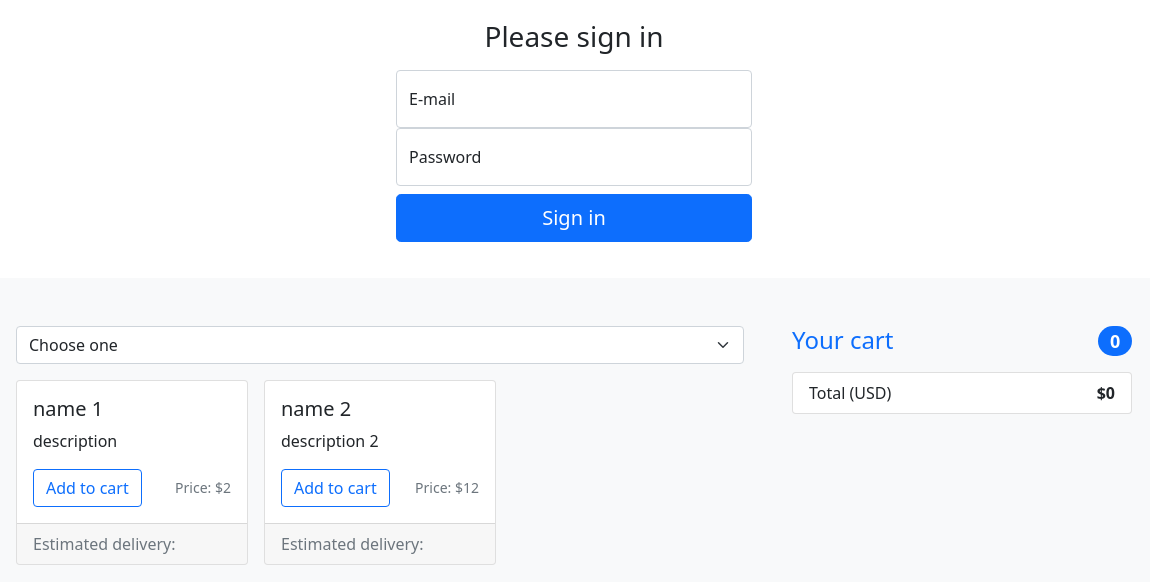
Test: Home component › One click buy with error
Expected: the text with test id "badge" reads "0", [1110,329,1120,353]
Click the button with test id "addToCart" below "name 1" at (87, 488), box [33,469,142,507]
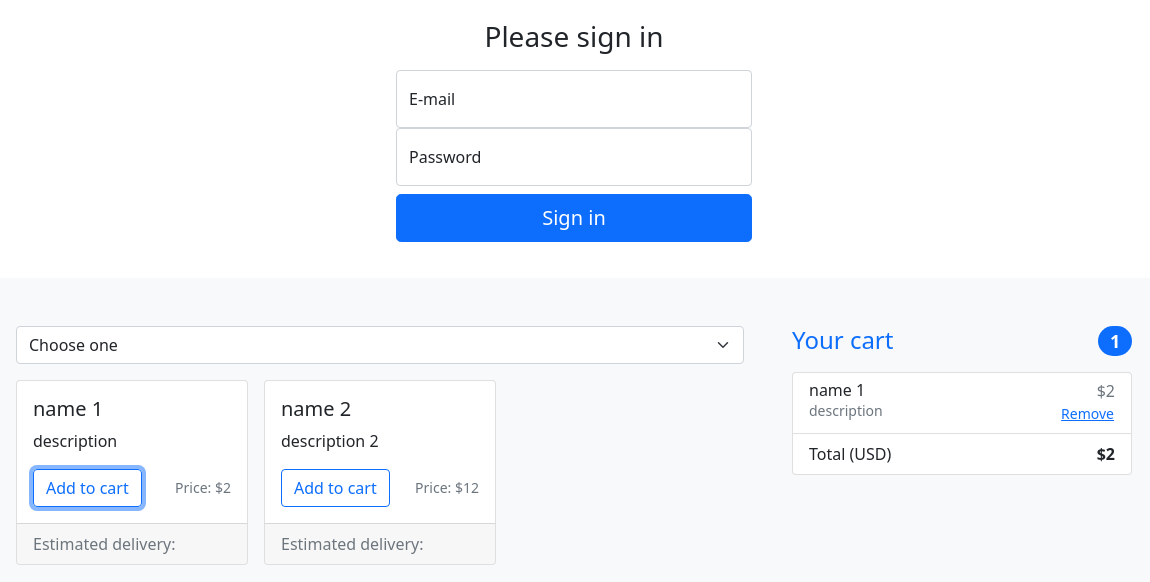
Click the button with test id "addToCart" in the row of "12" at (335, 488), box [281,469,390,507]
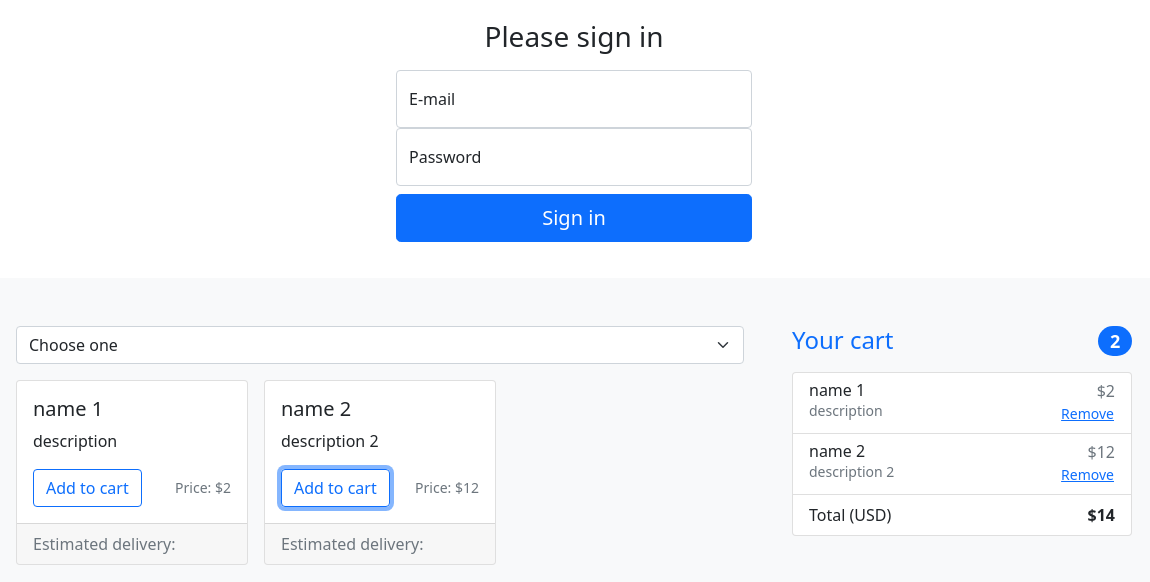
Expected: the text with test id "badge" reads "2", [1110,329,1120,353]
Expected: the text with test id "cartTotal" shows "14", [1097,504,1115,526]
Click the button with test id "submitLogin" at (574, 218), box [396,194,752,242]
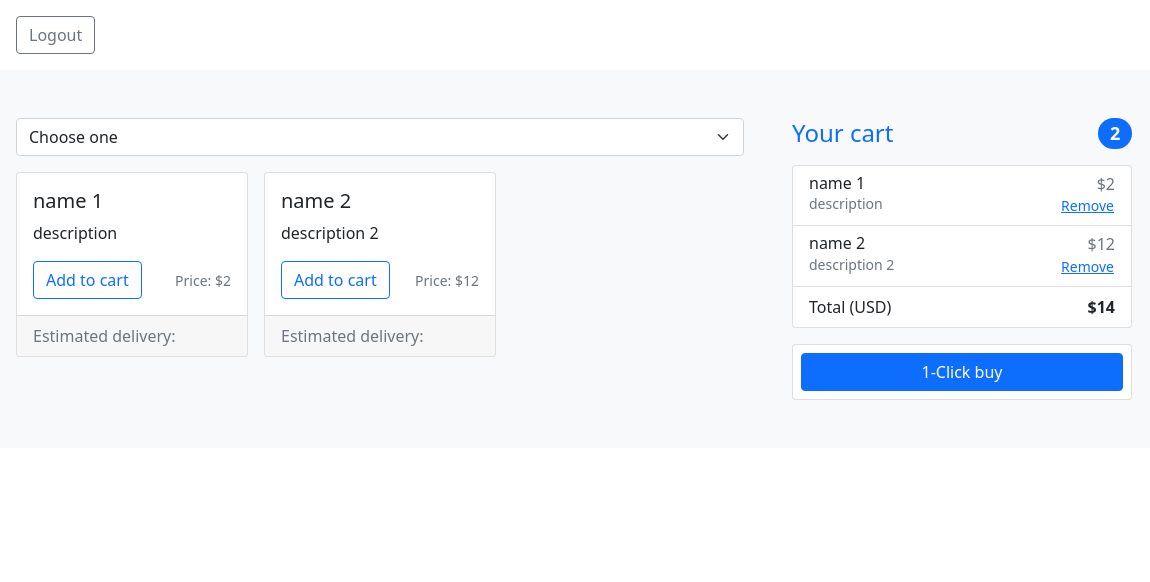
Expected: the button with test id "oneClickBuy" is shown
Click the button with test id "oneClickBuy" at (962, 372), box [801,353,1123,391]
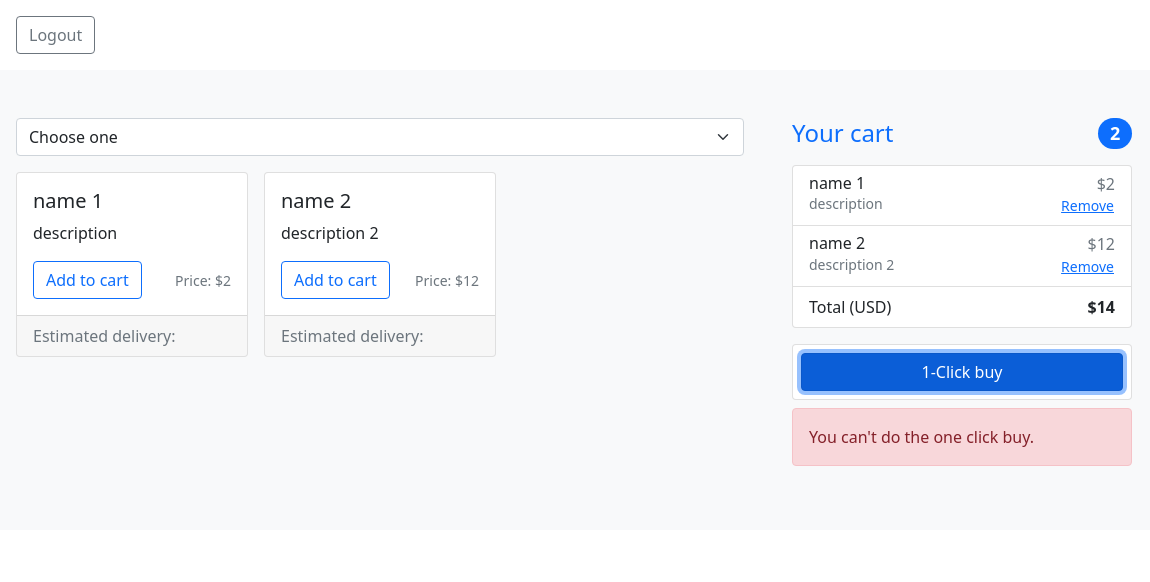
Expected: the text with test id "badge" reads "2", [1110,121,1120,145]
Expected: the text with test id "cartTotal" shows "14", [1097,296,1115,318]
Expected: the message "You can't do the one click buy." is shown, [792,408,1132,466]
